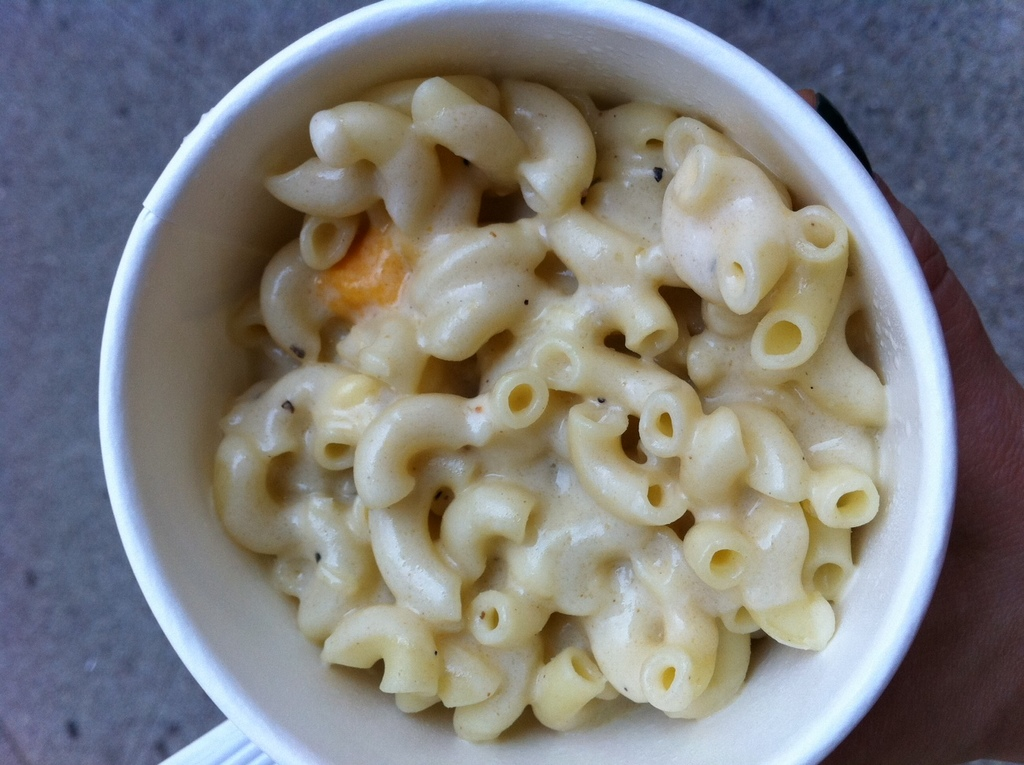pasta: (170, 11, 898, 750)
